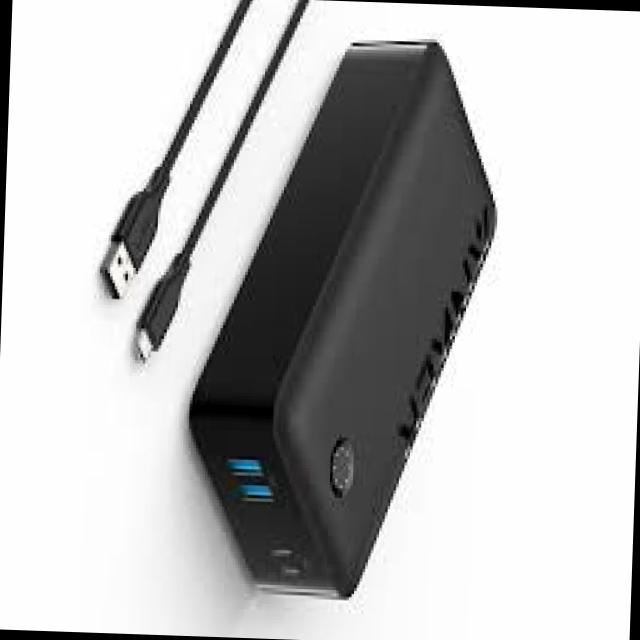portable-charger: (182, 29, 506, 607)
